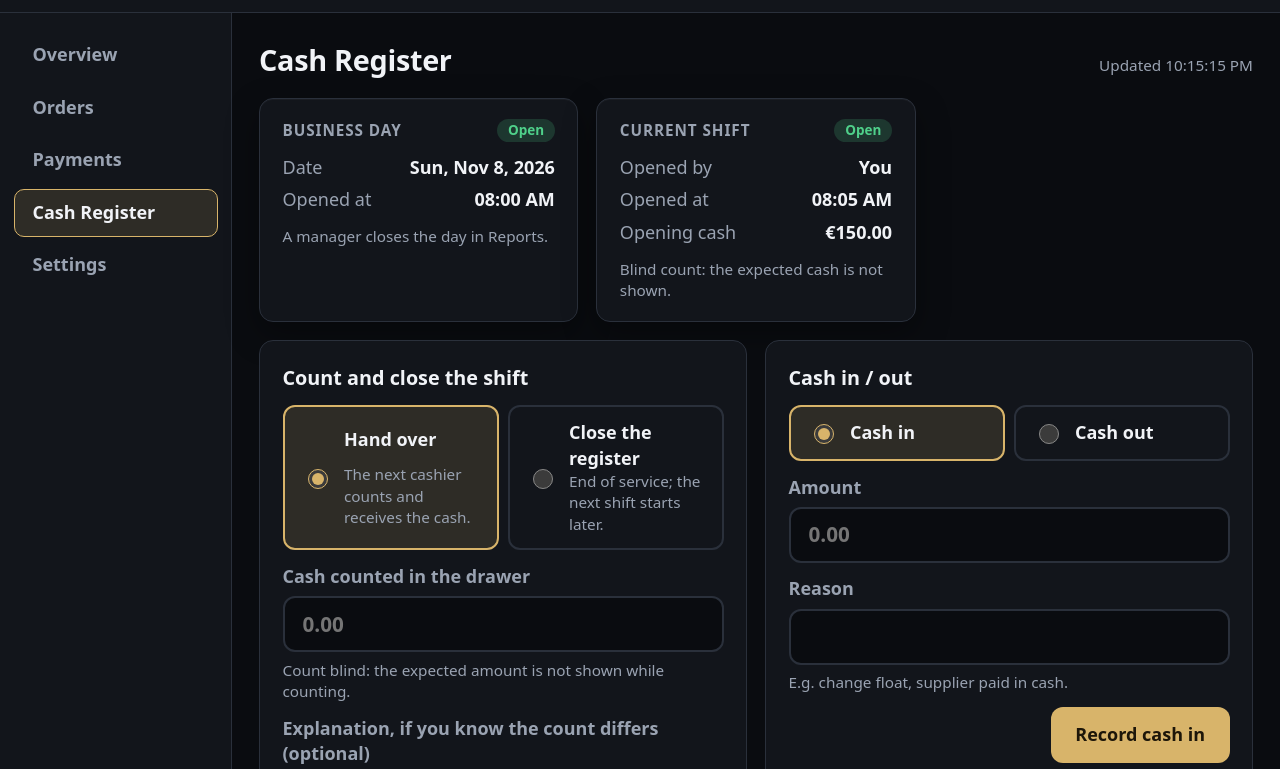
Scenario: closing a shift (blind count) › never shows a cashier the expected cash, and sends only the count
Check: the text "Blind count: the expected cash is not shown." is shown, box [620, 258, 892, 301]
Type "200" into the field labelled "Cash counted in the drawer".
click(503, 624); type("200")  # box [282, 596, 724, 652]
(page scrolled)
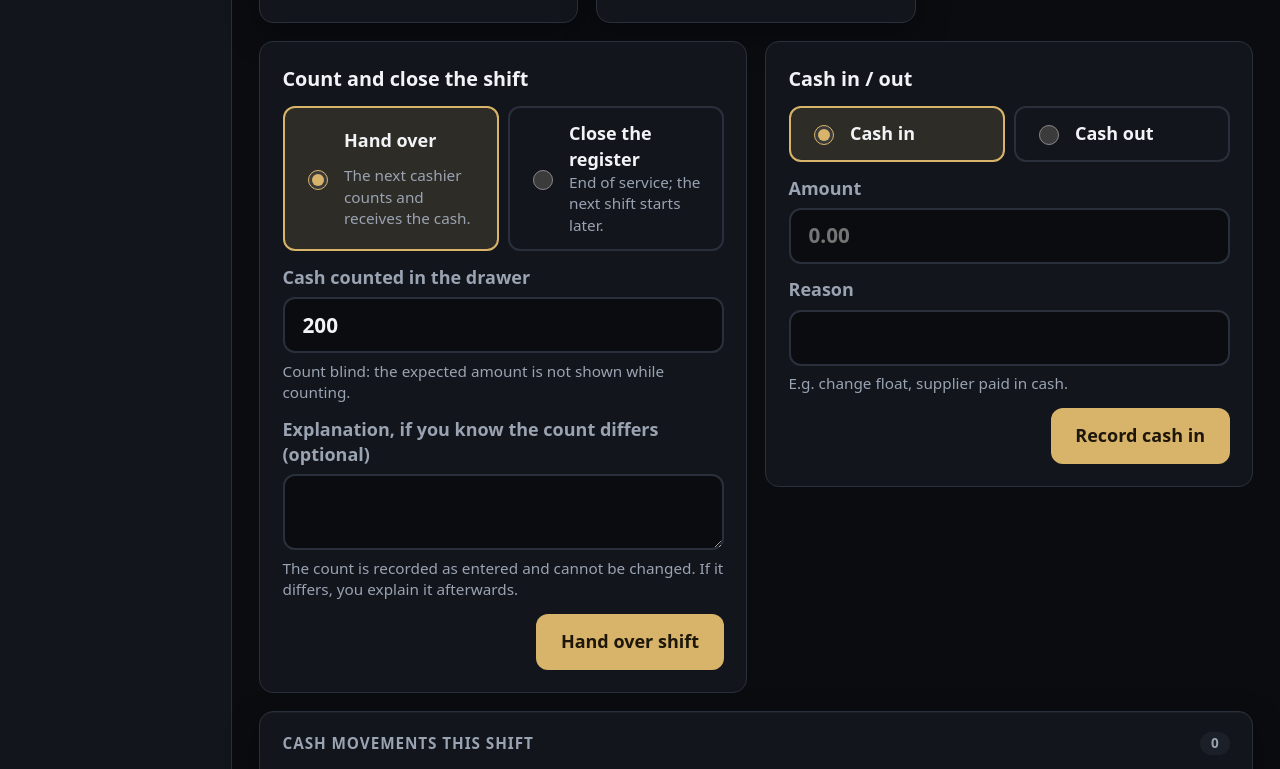
Click the button "Hand over shift".
click(630, 642)  # box [536, 614, 724, 670]
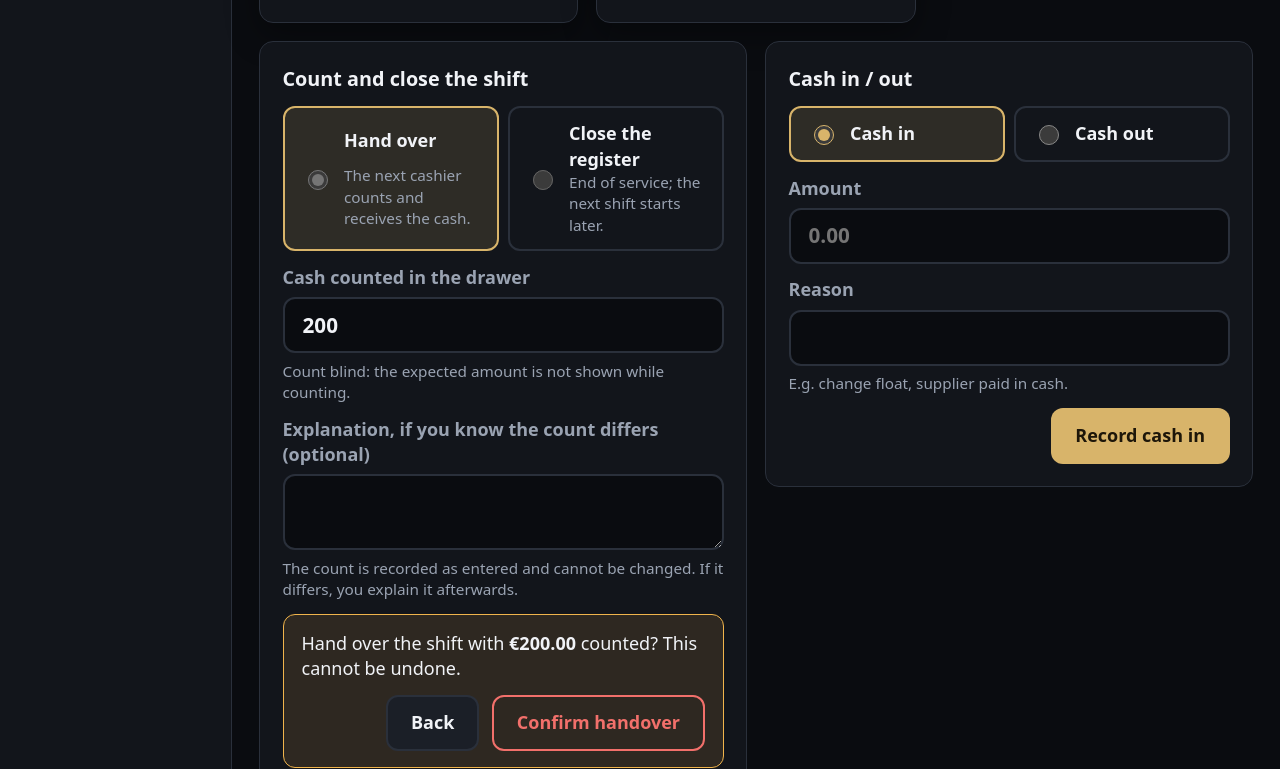
Check: the text "This cannot be undone" is shown, box [302, 631, 697, 680]
Click the button "Confirm handover".
click(598, 723)  # box [492, 695, 704, 751]
(page scrolled)
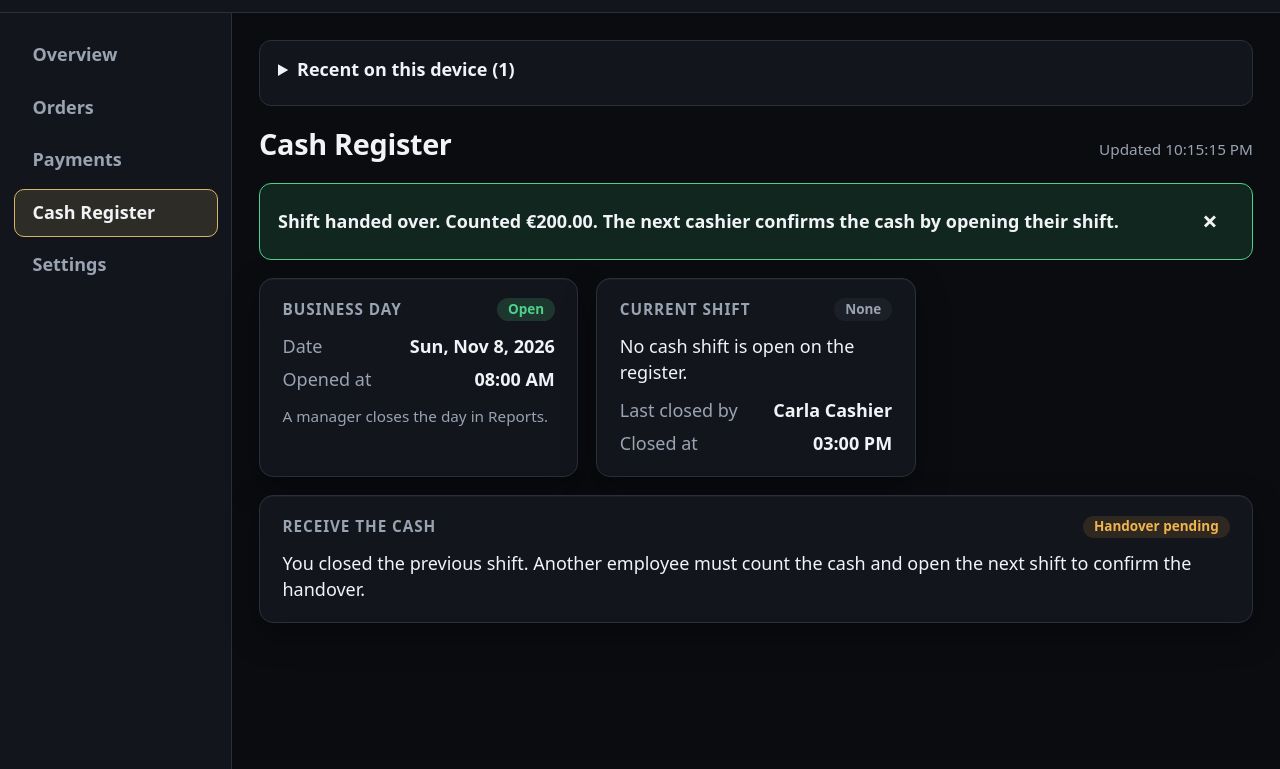
Check: the text "Shift handed over." shows "The next cashier confirms the cash by opening their shift.", box [278, 209, 1119, 233]
